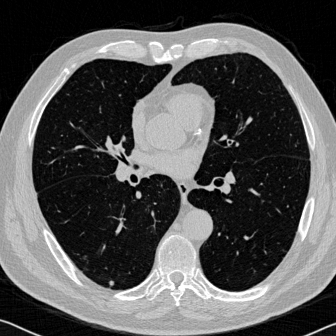nodule: (109, 281, 113, 285)
